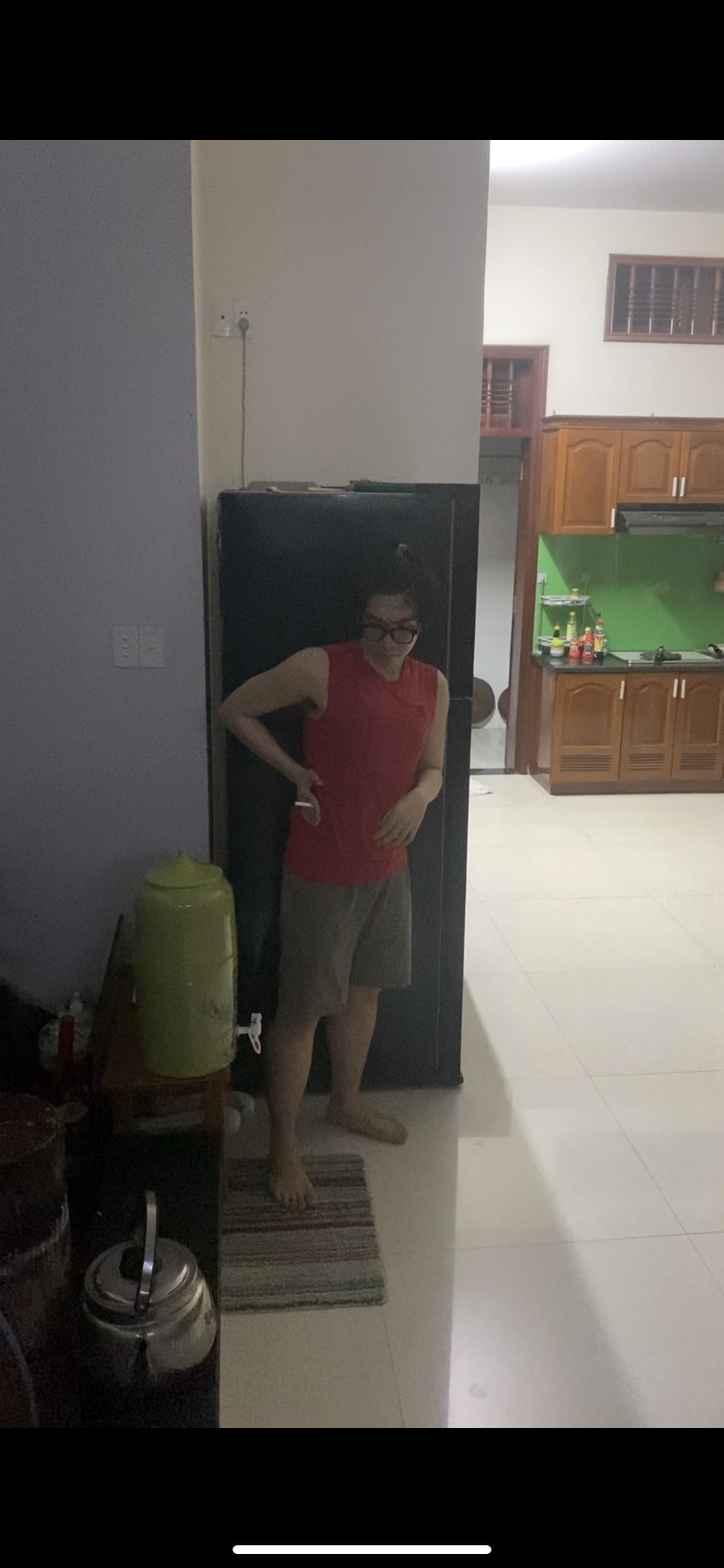cigarette: (291, 798, 314, 810)
person: (212, 552, 458, 1214)
